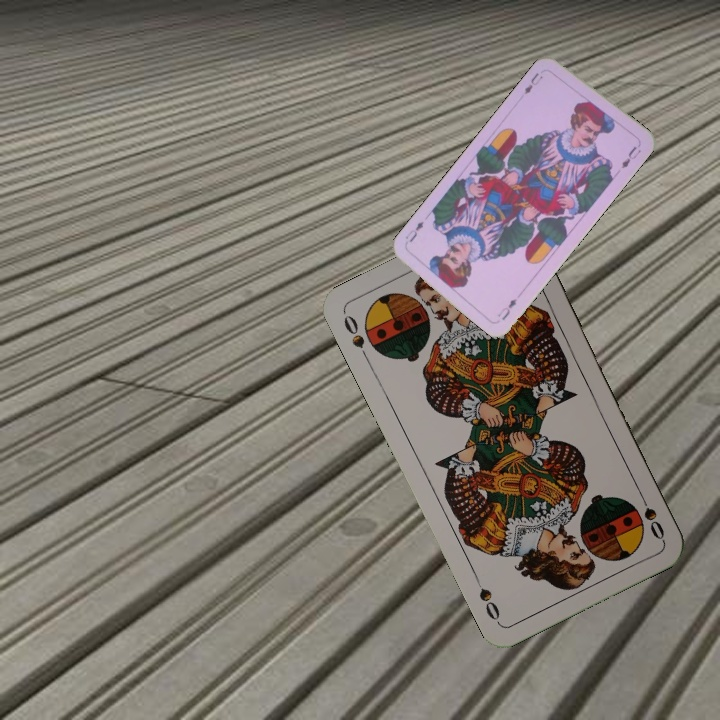EU: (494, 295, 520, 323), (520, 68, 545, 97)
SO: (634, 487, 667, 543), (339, 311, 372, 365)
